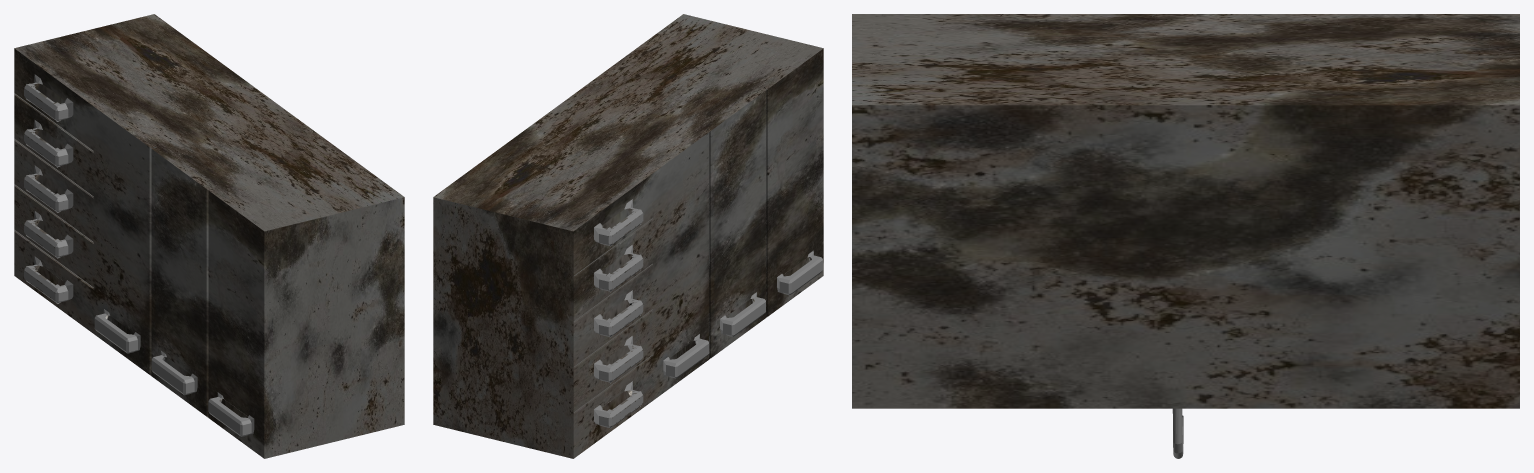
Rendered from Pia.fbx.
3 views of the same model, side by side, from view 1: azimuth 30°, elevation 25°; view 2: azimuth 150°, elevation 25°; view 3: azimuth 270°, elevation 25° (orthographic). The views are drawn at different scales.
Visible parts, largest first — view 1: Cube, Cube.002, Cube.003, Cube.004, Cube.005, Cube.006, Cube.007, Cube.008, Cube.009, Cube.010, Cube.014, Cube.012 (+5 smaller); view 2: Cube, Cube.002, Cube.003, Cube.004, Cube.005, Cube.008, Cube.006, Cube.007, Cube.009, Cube.029, Cube.010, Cube.013 (+5 smaller); view 3: Cube, Cube.031.
Boxes of the visible parts, x1=… form: Cube: x1=14, y1=14, x2=404, y2=458; Cube.002: x1=207, y1=189, x2=264, y2=458; Cube.003: x1=150, y1=147, x2=207, y2=416; Cube.004: x1=93, y1=107, x2=150, y2=375; Cube.005: x1=14, y1=230, x2=93, y2=333; Cube.006: x1=14, y1=185, x2=93, y2=286; Cube.007: x1=14, y1=139, x2=93, y2=242; Cube.008: x1=14, y1=94, x2=93, y2=195; Cube.009: x1=14, y1=48, x2=93, y2=150; Cube.010: x1=24, y1=256, x2=73, y2=303; Cube.014: x1=24, y1=74, x2=73, y2=121; Cube.012: x1=24, y1=165, x2=73, y2=212; Cube: x1=433, y1=14, x2=823, y2=458; Cube.002: x1=764, y1=48, x2=823, y2=317; Cube.003: x1=707, y1=89, x2=766, y2=358; Cube.004: x1=653, y1=131, x2=709, y2=400; Cube.005: x1=573, y1=355, x2=652, y2=458; Cube.008: x1=573, y1=218, x2=652, y2=321; Cube.006: x1=573, y1=309, x2=652, y2=411; Cube.007: x1=573, y1=263, x2=652, y2=366; Cube.009: x1=573, y1=173, x2=652, y2=275; Cube.029: x1=663, y1=334, x2=709, y2=378; Cube.010: x1=594, y1=381, x2=643, y2=428; Cube.013: x1=594, y1=245, x2=643, y2=292; Cube: x1=852, y1=14, x2=1519, y2=408; Cube.031: x1=973, y1=105, x2=1155, y2=408.
Bounding box in the file's own units: 142 × 245 × 399.
Materials: 4 (3 with a texture image).
